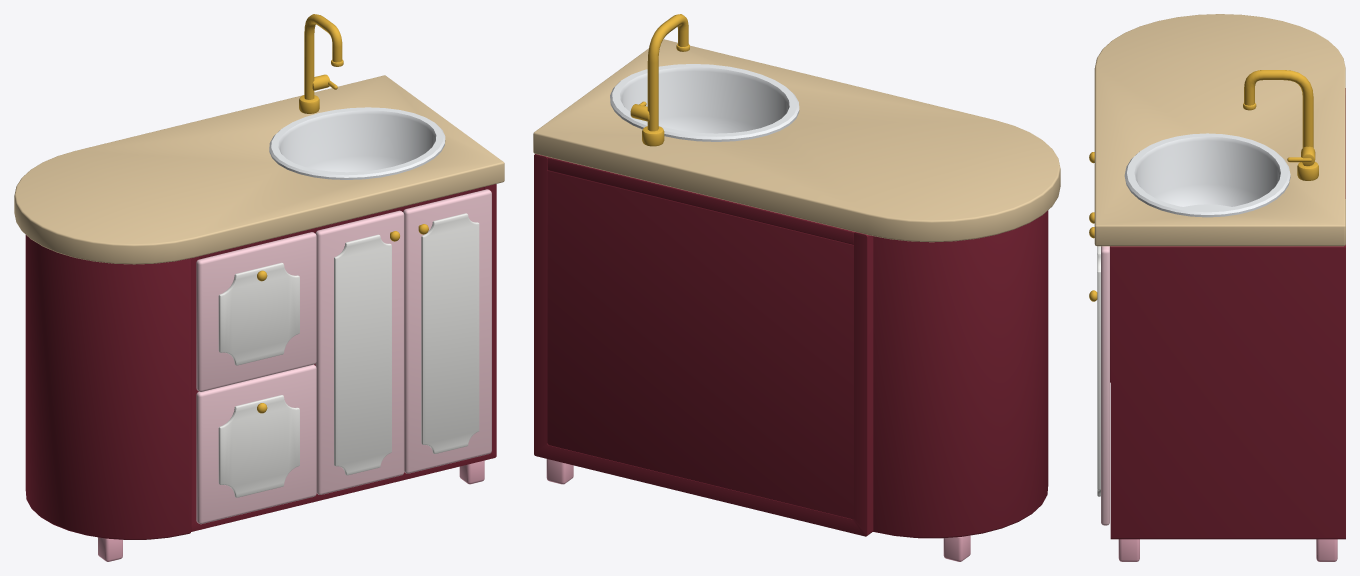
The model's file is armario_cozinha_pia_ponta_curva_classica_vinho.glb.
3 renders of one model, left to right at view 1: azimuth 30°, elevation 25°; view 2: azimuth 150°, elevation 25°; view 3: azimuth 270°, elevation 25°, orthographic. The views are drawn at different scales.
Visible parts, largest first — view 1: armario_cozinha_pia_ponta_curva_classica_vinho, porta_1, porta_2, gaveta_1, gaveta_2; view 2: armario_cozinha_pia_ponta_curva_classica_vinho; view 3: armario_cozinha_pia_ponta_curva_classica_vinho, porta_2.
Boxes of the visible parts, left/top/right/bottom form: armario_cozinha_pia_ponta_curva_classica_vinho: left=14, top=14, right=504, bottom=561; porta_1: left=315, top=210, right=404, bottom=494; porta_2: left=403, top=189, right=491, bottom=473; gaveta_1: left=196, top=232, right=316, bottom=391; gaveta_2: left=196, top=364, right=316, bottom=524; armario_cozinha_pia_ponta_curva_classica_vinho: left=533, top=14, right=1060, bottom=561; armario_cozinha_pia_ponta_curva_classica_vinho: left=1094, top=14, right=1345, bottom=561; porta_2: left=1089, top=227, right=1109, bottom=525.
Bounding box in the file's own units: 1.2 × 1.18 × 0.6131.
1 material, 1 textured.
